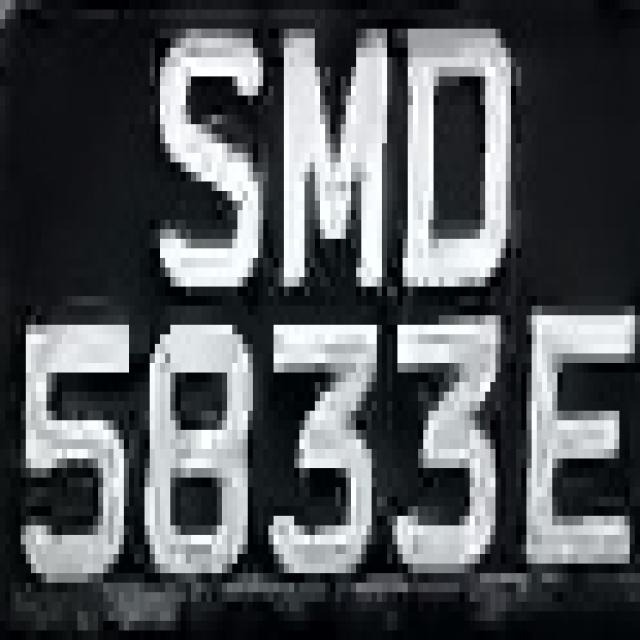3: (253, 277, 377, 564), (392, 296, 511, 573)
5: (10, 286, 129, 612)
8: (139, 325, 279, 602)
D: (398, 0, 522, 306)
E: (521, 296, 630, 602)
M: (258, 0, 397, 287)
S: (144, 9, 274, 324)
